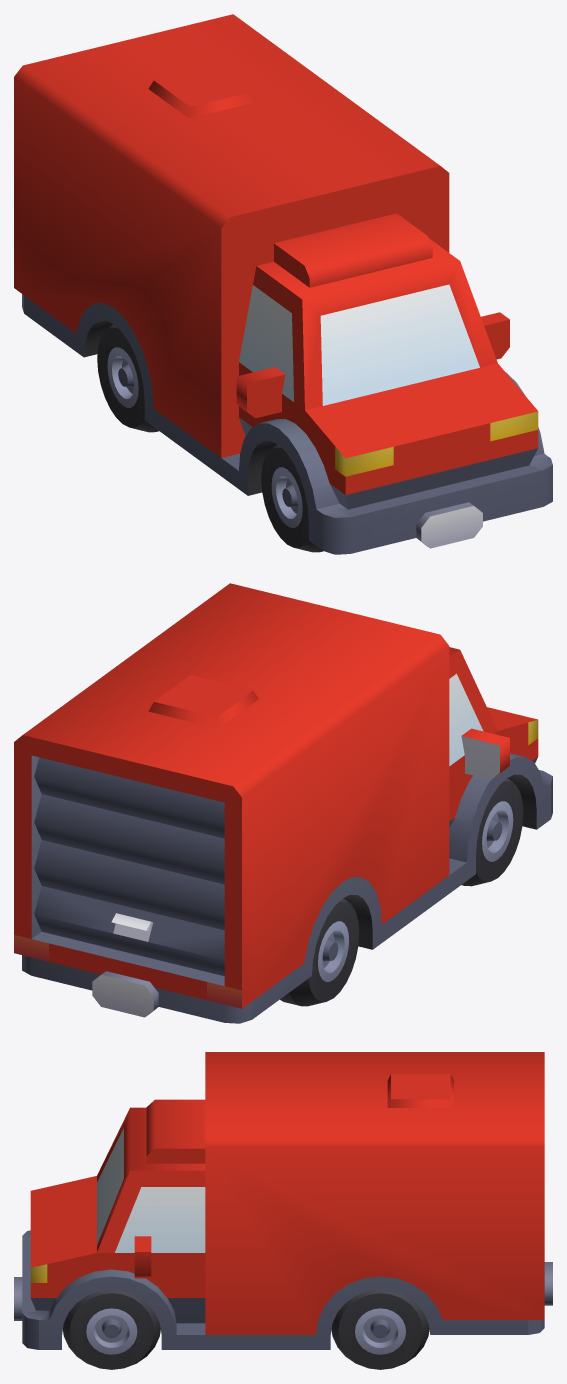
Rendered from delivery2.glb.
3 views of the same model, one above another, from view 1: azimuth 30°, elevation 25°; view 2: azimuth 150°, elevation 25°; view 3: azimuth 270°, elevation 25° (orthographic). The views are drawn at different scales.
Visible parts, largest first — view 1: body.001, body, wheel-front-right, wheel-back-right; view 2: body.001, door, body, wheel-back-right, wheel-front-right; view 3: body.001, body, wheel-back-left, wheel-front-left.
Boxes of the visible parts, x1=… form: body.001: x1=14, y1=14, x2=538, y2=494; body: x1=22, y1=284, x2=552, y2=554; wheel-front-right: x1=261, y1=444, x2=323, y2=552; wheel-back-right: x1=97, y1=324, x2=158, y2=432; body.001: x1=14, y1=583, x2=538, y2=1008; door: x1=34, y1=757, x2=224, y2=976; body: x1=14, y1=673, x2=552, y2=1023; wheel-back-right: x1=280, y1=898, x2=359, y2=1006; wheel-front-right: x1=461, y1=778, x2=523, y2=886; body.001: x1=30, y1=1052, x2=544, y2=1334; body: x1=14, y1=1128, x2=552, y2=1349; wheel-back-left: x1=331, y1=1290, x2=429, y2=1369; wheel-front-left: x1=63, y1=1290, x2=160, y2=1369.
Size of the model in its own units: 1.5 by 1.65 by 3.25.
2 materials, 1 textured.
